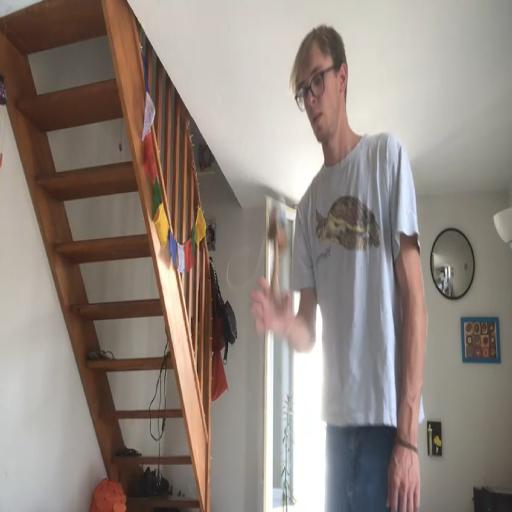kendama_ball: (270, 199, 286, 230)
